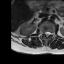CCS_normal: (46, 30, 48, 38)
LFS_normal: (50, 30, 52, 36)
LLS_normal: (48, 30, 50, 36)
RFS_normal: (42, 30, 44, 35)
RLS_normal: (44, 30, 46, 37)
